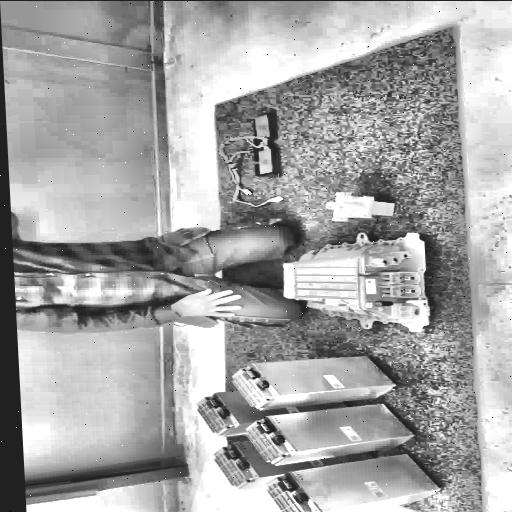battery_module: (243, 403, 416, 466), (263, 452, 441, 512), (229, 355, 395, 409), (211, 442, 259, 490), (196, 392, 238, 438)
bms_unit: (284, 234, 439, 334)
connector: (319, 189, 399, 221)
high_volt_cable: (215, 134, 287, 208)
